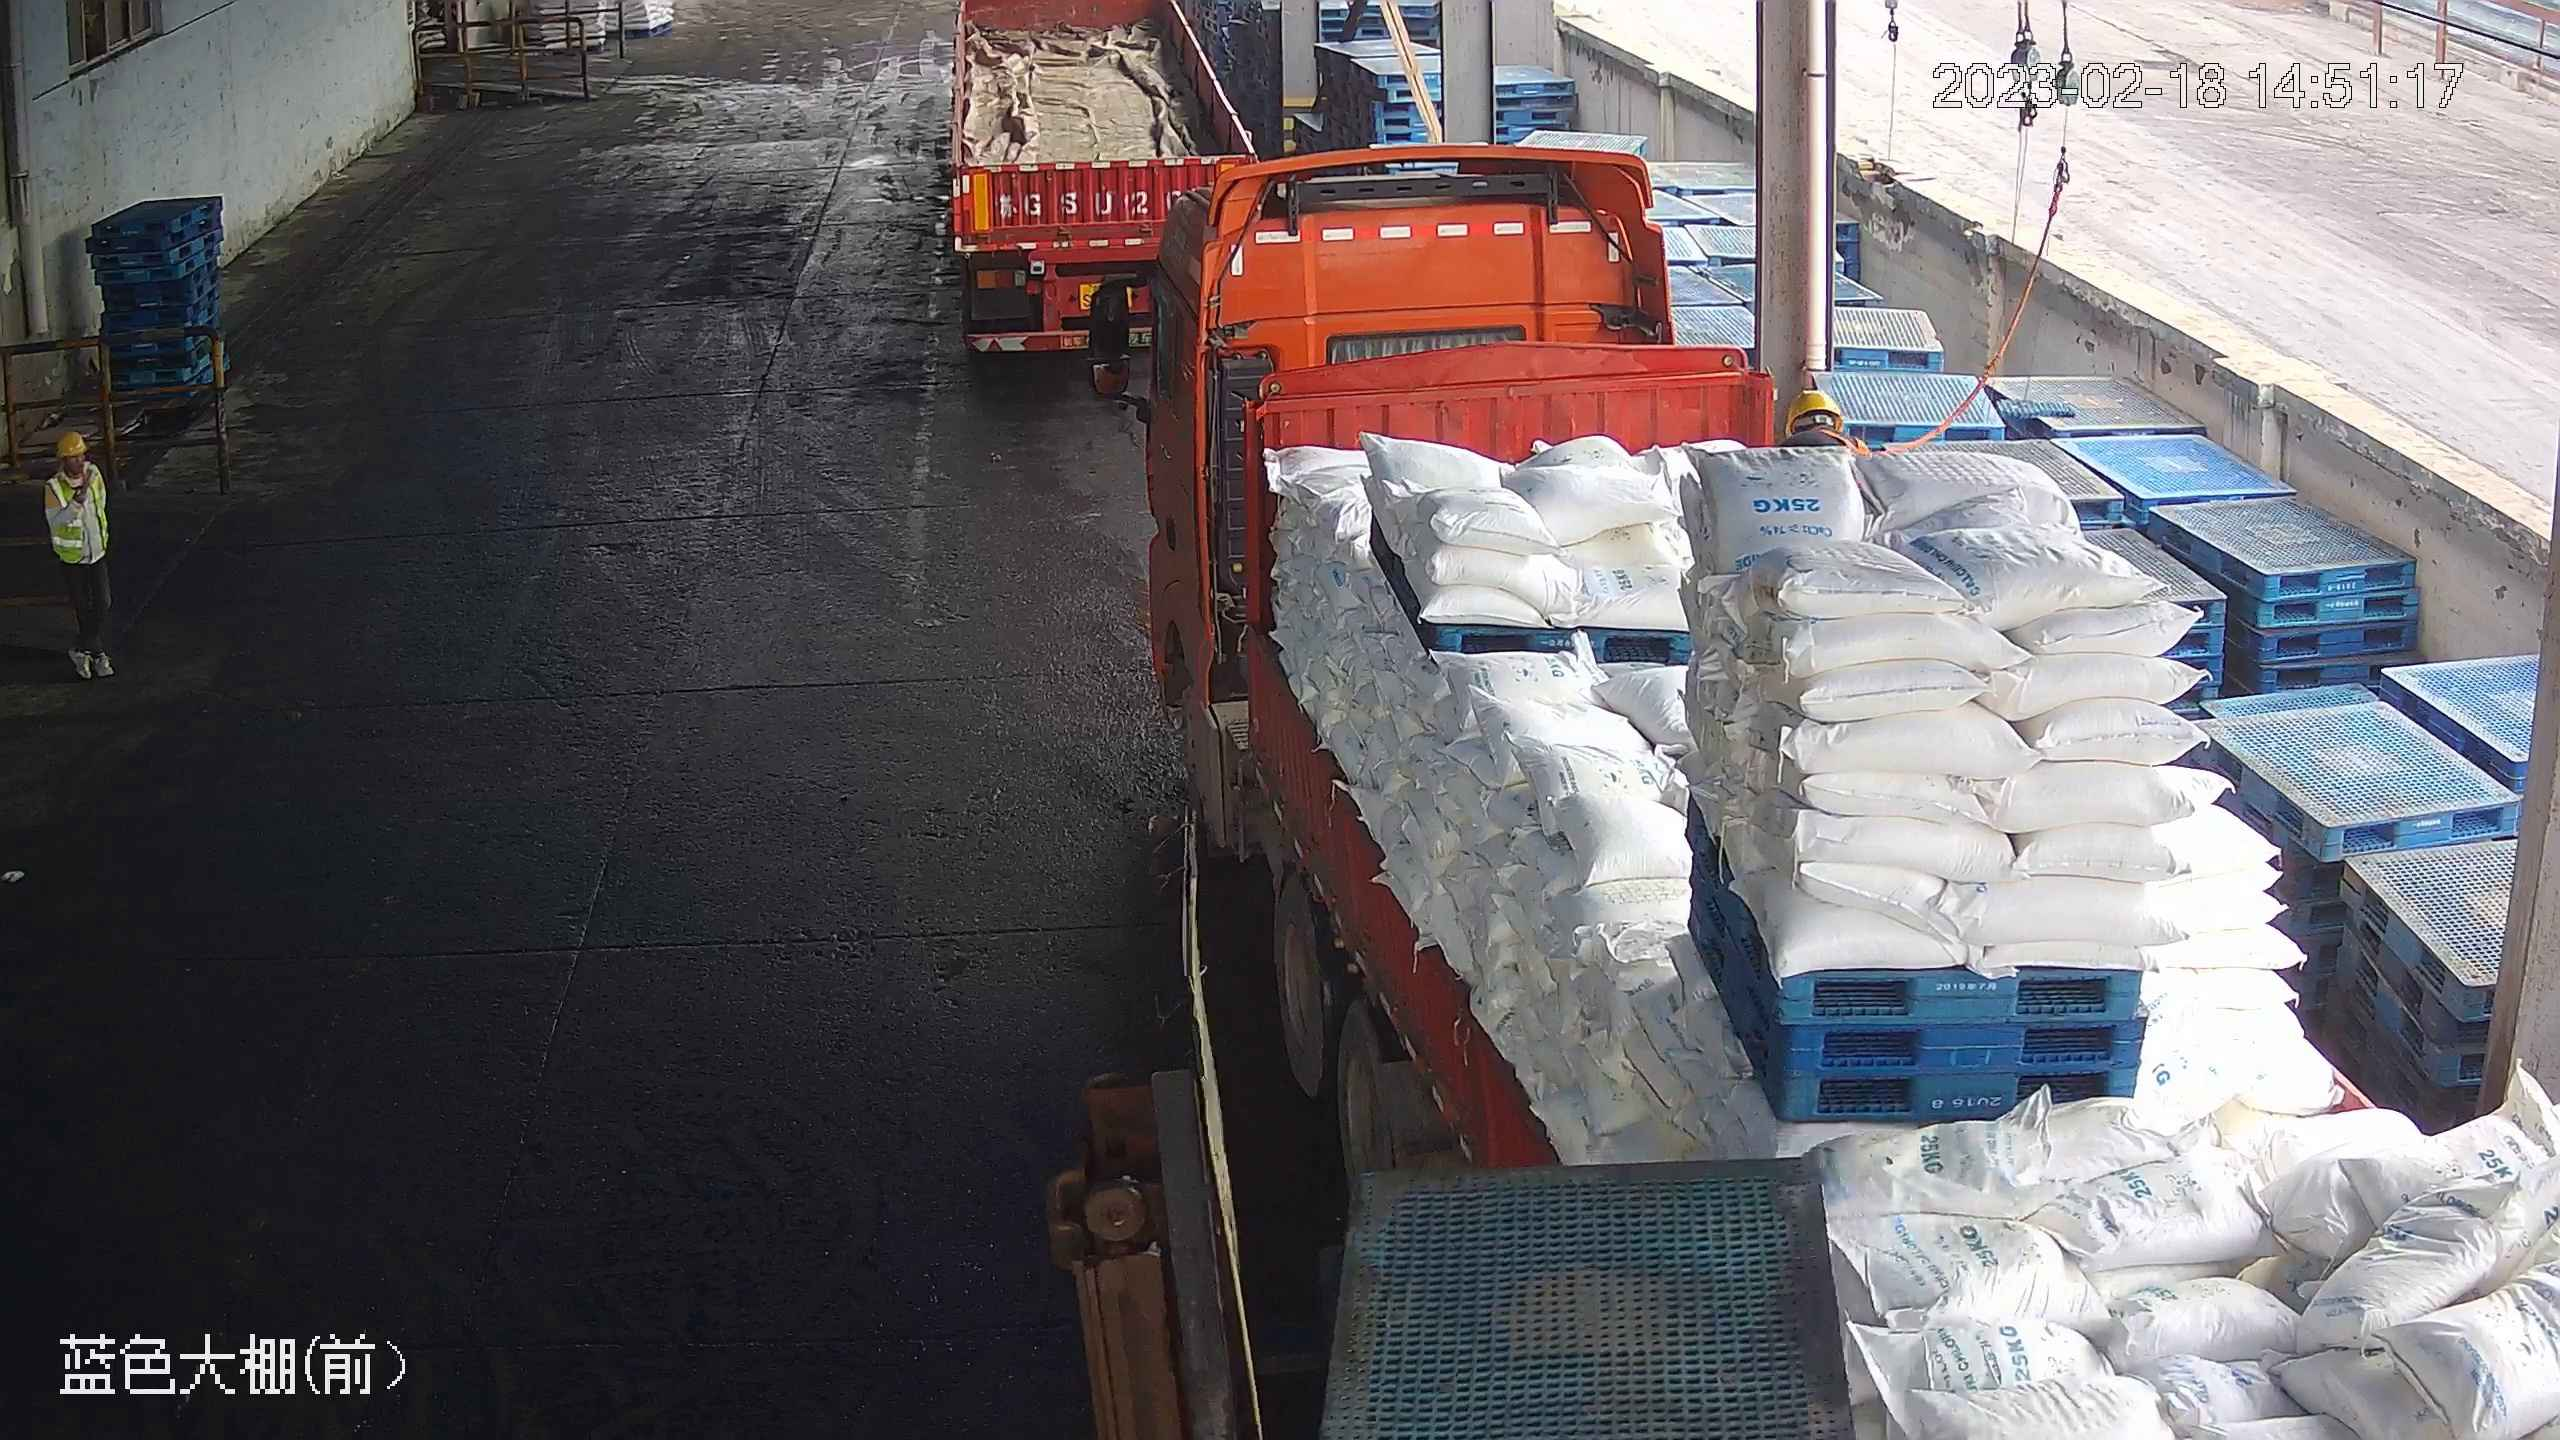head: (41, 428, 111, 502)
helmet: (1784, 388, 1846, 435), (57, 428, 91, 458)
people: (37, 425, 122, 691)
truck: (1064, 159, 2557, 1440), (918, 3, 1299, 388)
